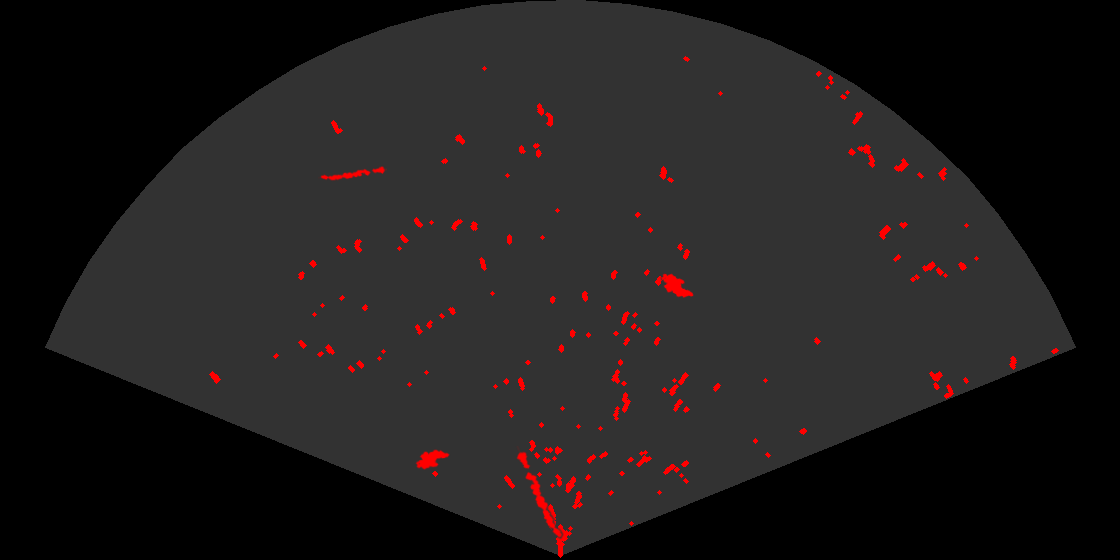AUV: (660, 272, 695, 299), (414, 448, 451, 471)
chain: (515, 446, 564, 540), (318, 165, 387, 182)
